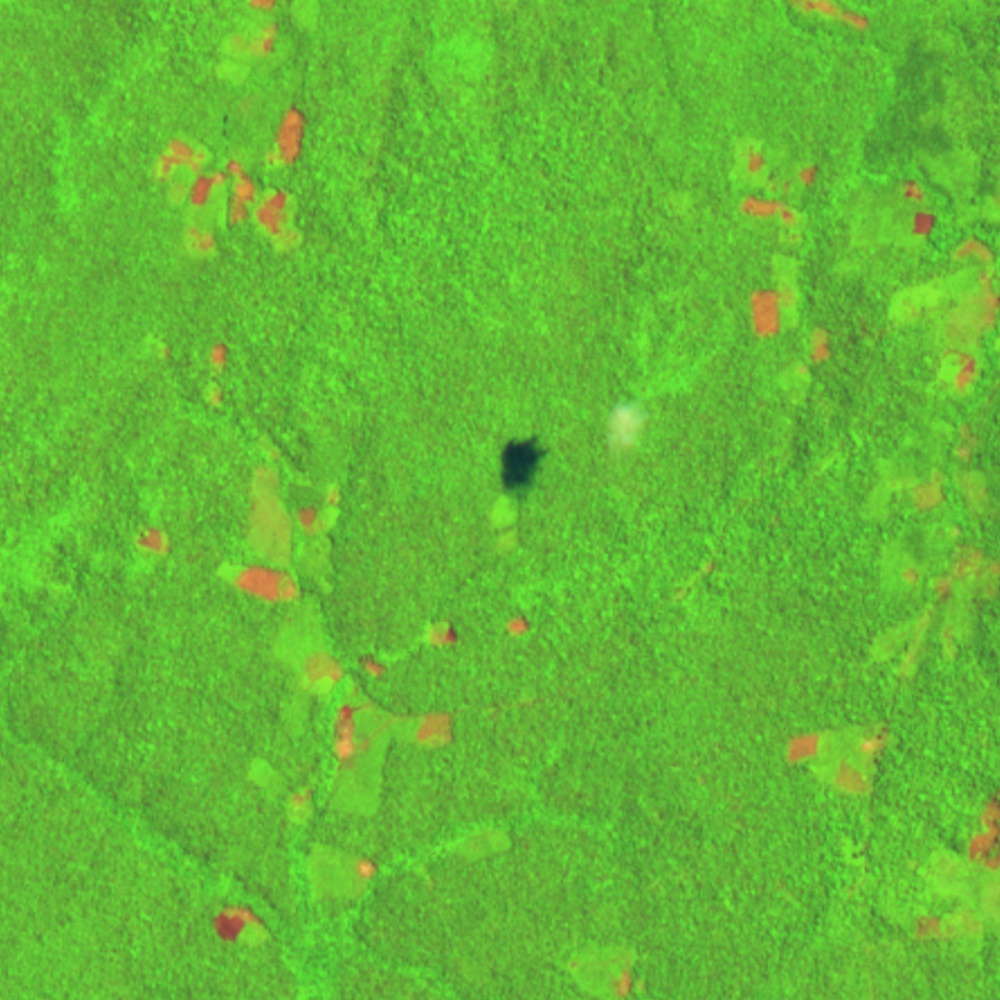legal: (290, 610, 534, 820), (731, 138, 848, 374), (153, 99, 308, 260), (888, 176, 1000, 388), (215, 458, 353, 612), (890, 467, 1000, 645), (905, 793, 1000, 945), (788, 721, 889, 797), (293, 839, 389, 907), (155, 334, 236, 404), (549, 940, 644, 998), (205, 894, 270, 946), (790, 1, 872, 34), (244, 1, 286, 58), (137, 521, 173, 554)
